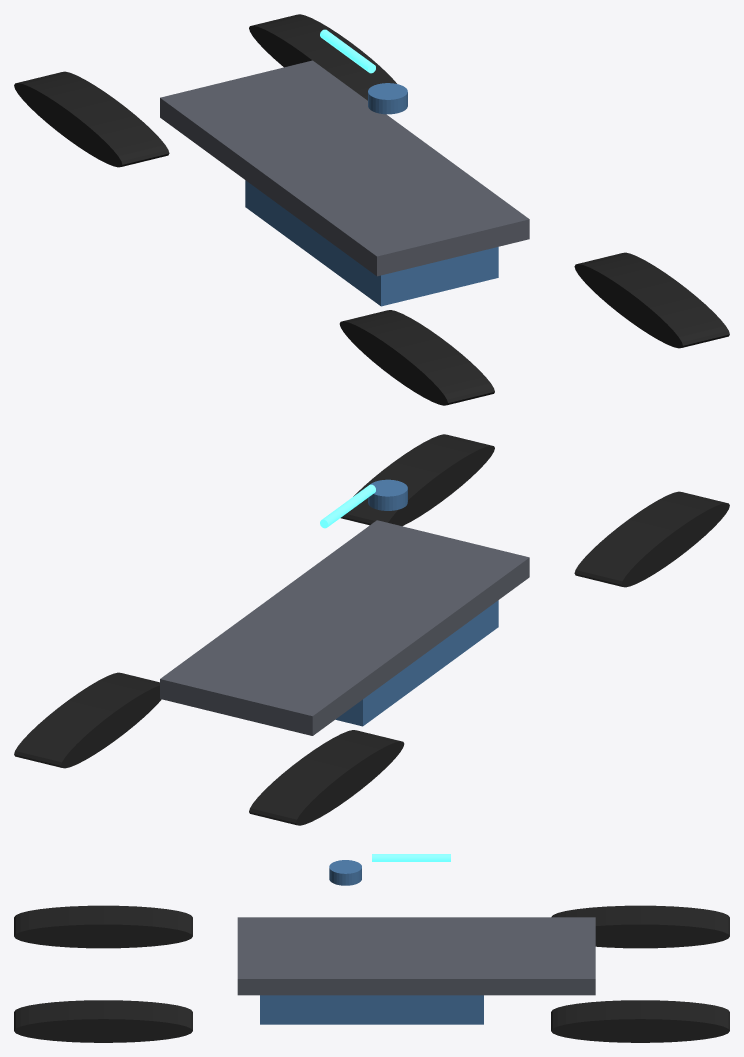
Rendered from AL_KestrelScout_LOD0.glb.
3 views of the same model, one above another, from view 1: azimuth 30°, elevation 25°; view 2: azimuth 150°, elevation 25°; view 3: azimuth 270°, elevation 25° (orthographic). The views are drawn at different scales.
Visible parts, largest first — view 1: Cube.001, Cylinder, Cylinder.001, Cylinder.002, Cube, Cylinder.003, Cylinder.004, Cylinder.005; view 2: Cube.001, Cylinder.001, Cylinder, Cylinder.003, Cylinder.002, Cube, Cylinder.004, Cylinder.005; view 3: Cube.001, Cylinder, Cylinder.002, Cylinder.003, Cube, Cylinder.001, Cylinder.004, Cylinder.005.
Boxes of the visible parts, x1,y1,x2,y2 form: Cube.001: (160,60,529,276); Cylinder: (339,310,494,405); Cylinder.001: (14,71,169,167); Cylinder.002: (574,252,729,348); Cube: (245,180,498,306); Cylinder.003: (249,14,396,100); Cylinder.004: (368,83,407,114); Cylinder.005: (320,29,375,73); Cube.001: (160,520,529,735); Cylinder.001: (249,730,404,825); Cylinder: (574,491,729,587); Cylinder.003: (14,672,161,768); Cylinder.002: (341,434,494,526); Cube: (335,600,498,726); Cylinder.004: (368,479,407,510); Cylinder.005: (320,484,375,528); Cube.001: (237,917,595,995); Cylinder: (14,905,192,948); Cylinder.002: (14,1000,192,1042); Cylinder.003: (551,1000,729,1042); Cube: (260,995,483,1024); Cylinder.001: (551,905,729,948); Cylinder.004: (329,860,361,885); Cylinder.005: (372,854,450,861).
Size of what is drawn, in the model's own units: 4.08 by 2.46 by 10.88.
